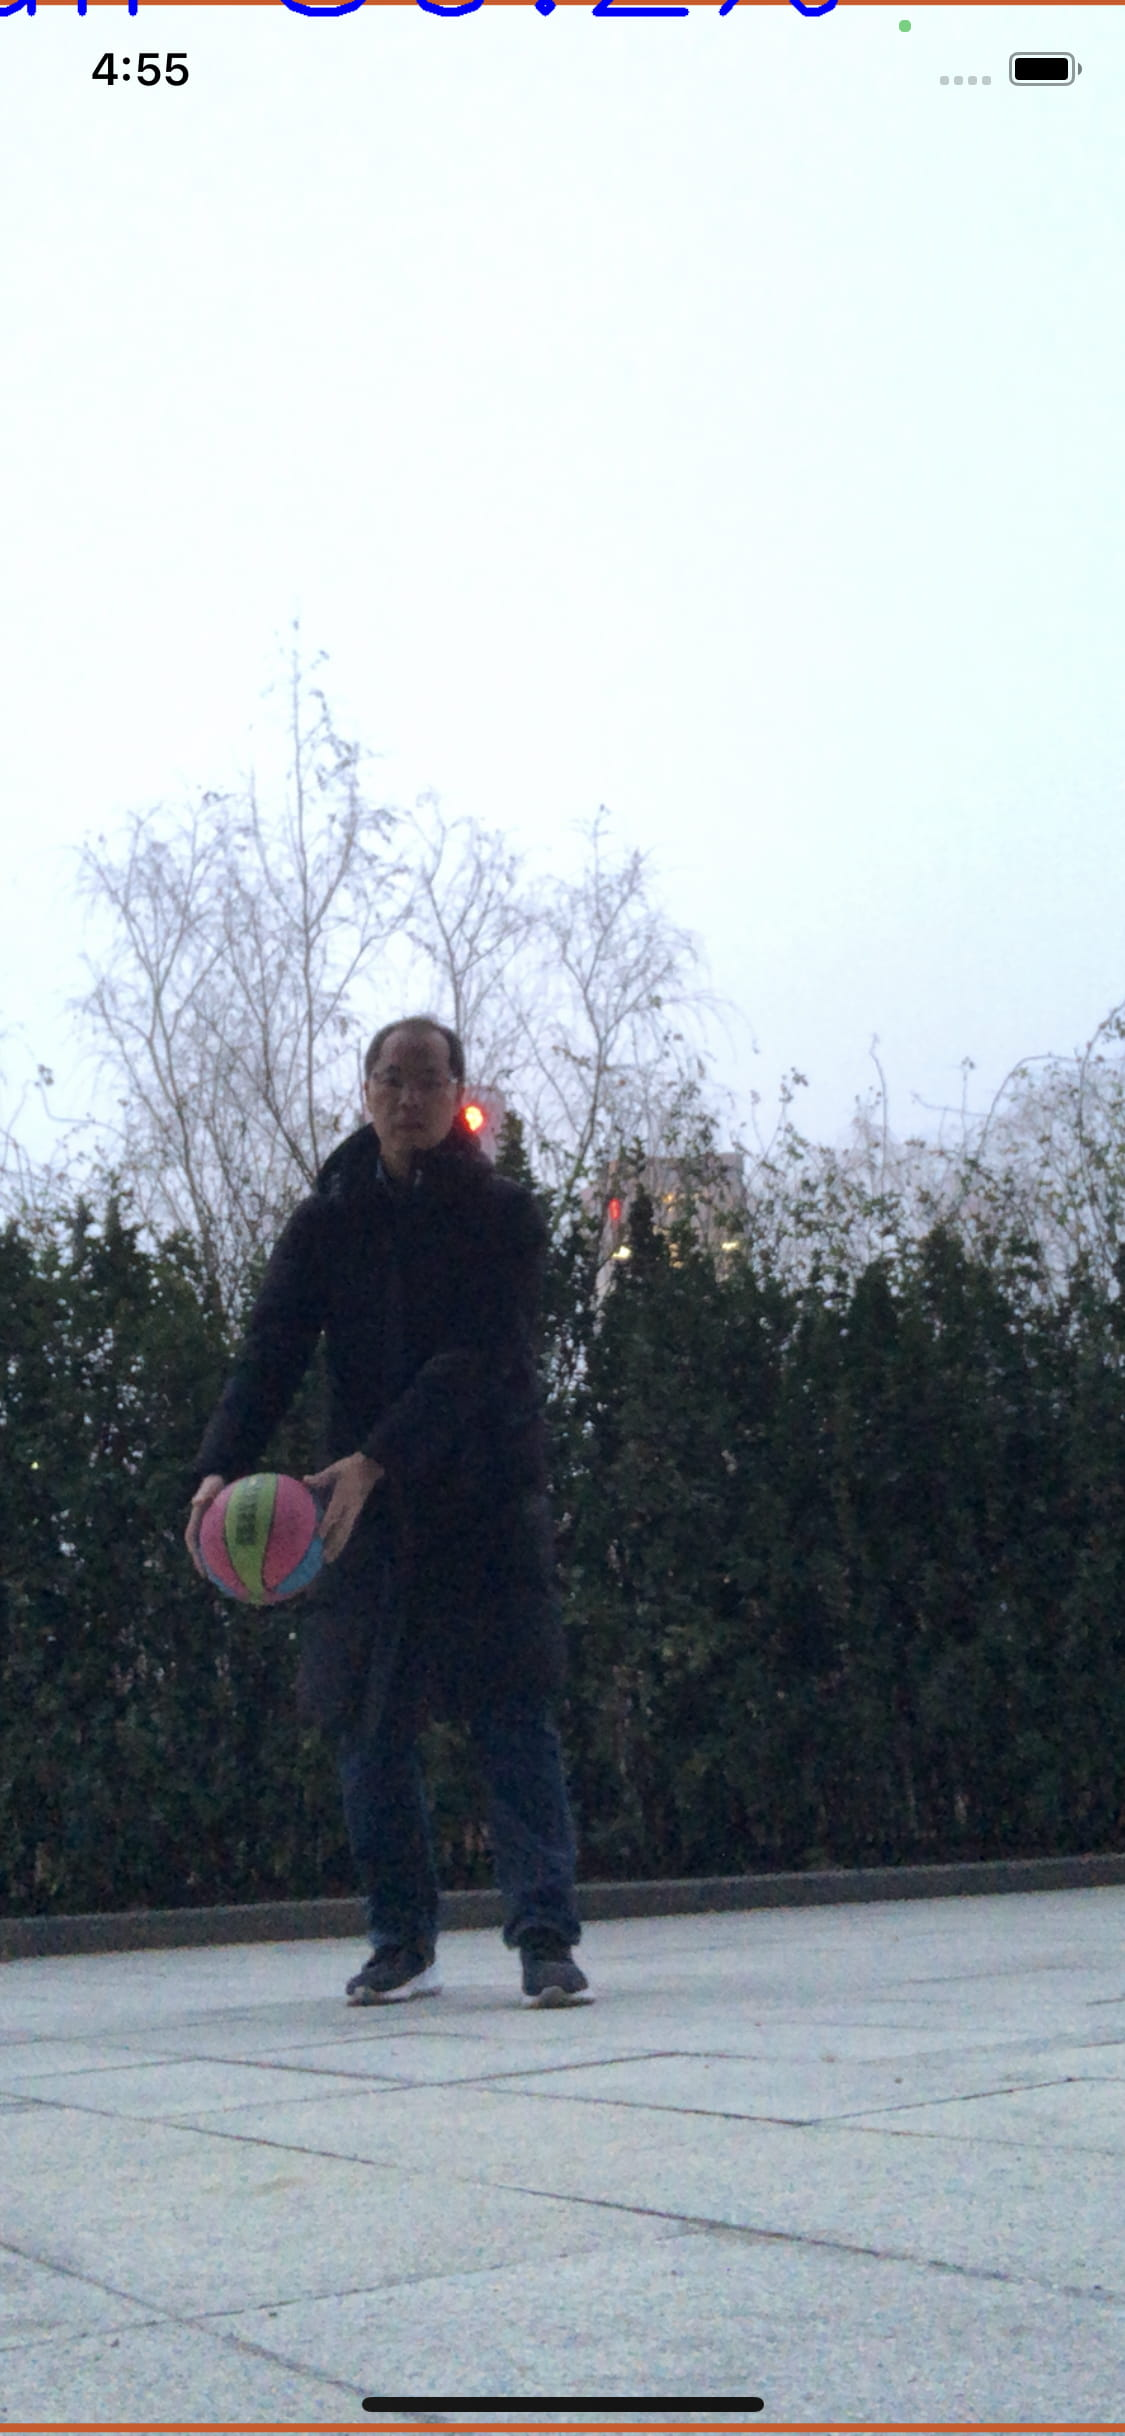ball: (193, 1470, 329, 1609)
